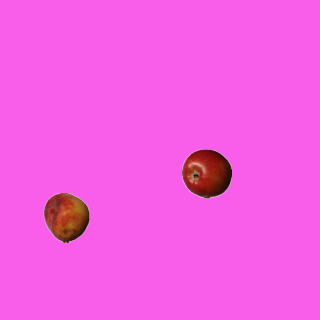Apple Braeburn: (181, 148, 231, 198)
Peach: (41, 192, 91, 242)
